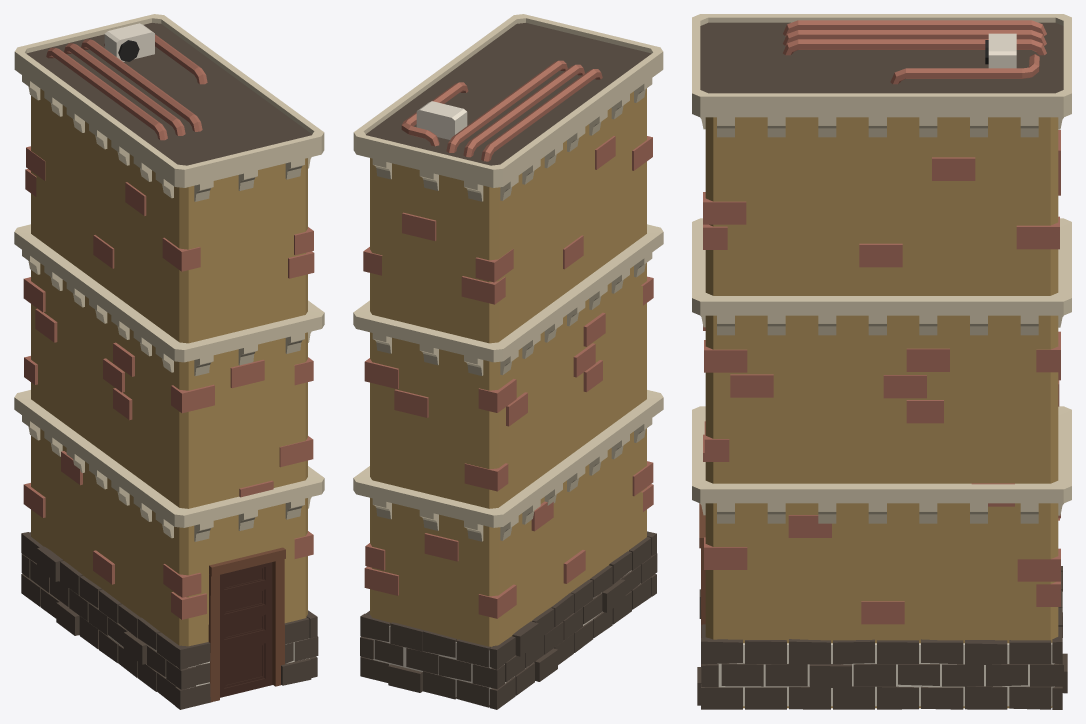
File: cairo-block-slim.glb
3 renders of one model, left to right at view 1: azimuth 30°, elevation 25°; view 2: azimuth 150°, elevation 25°; view 3: azimuth 270°, elevation 25°, orthographic. The views are drawn at different scales.
Bounding box in the file's own units: 1.12 × 3.99 × 2.15.
